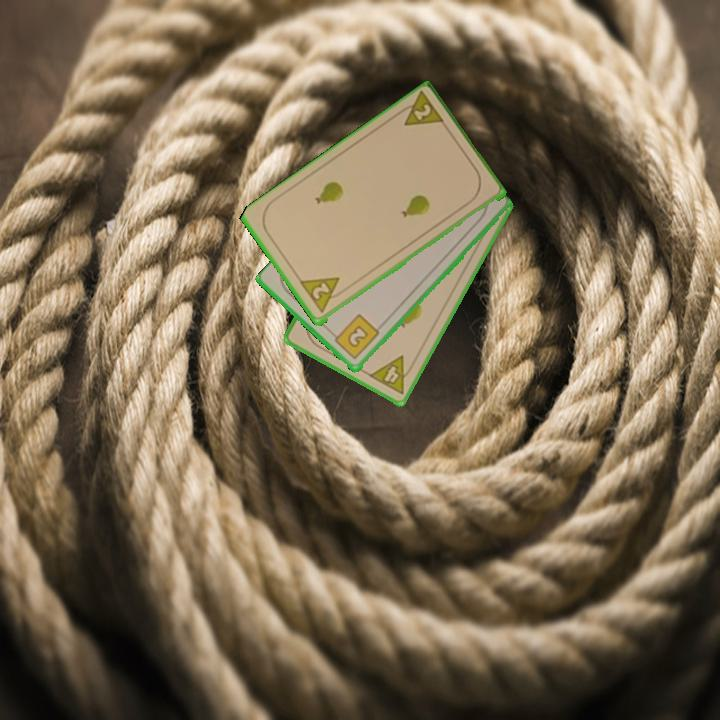2b: (328, 311, 382, 363)
2p: (392, 89, 448, 130), (297, 273, 349, 316)
4p: (365, 352, 418, 397)
